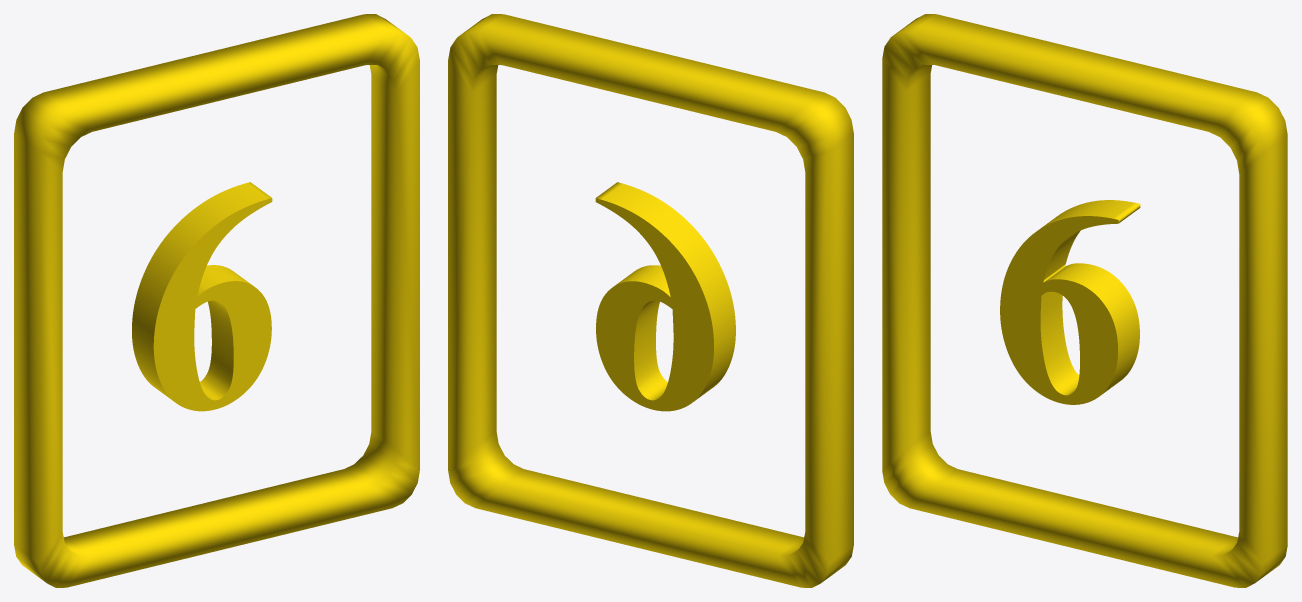
Rendered from Number_6.gltf.
The picture shows the model from 3 angles, left to right: view 1: azimuth 30°, elevation 25°; view 2: azimuth 150°, elevation 25°; view 3: azimuth 330°, elevation 25°; orthographic projection.
Visible parts, largest first — view 1: Numbers.007; view 2: Numbers.007; view 3: Numbers.007.
Boxes of the visible parts, x1=… form: Numbers.007: x1=14, y1=14, x2=419, y2=587; Numbers.007: x1=448, y1=14, x2=853, y2=587; Numbers.007: x1=882, y1=14, x2=1287, y2=587.
Bounding box in the file's own units: 1 × 1.2 × 0.1143.
